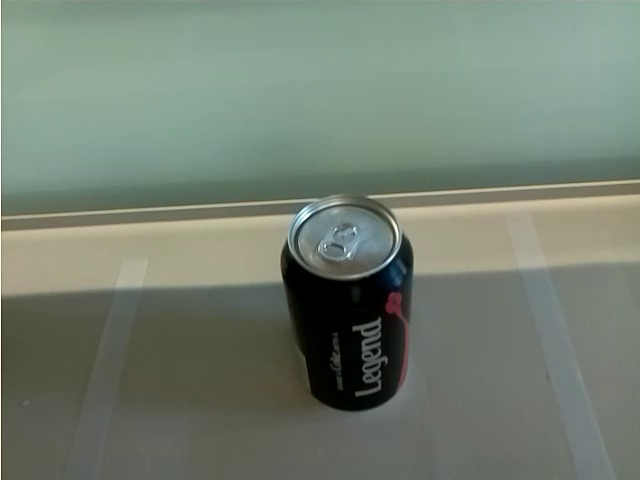cocacola-zero: (280, 189, 417, 415)
